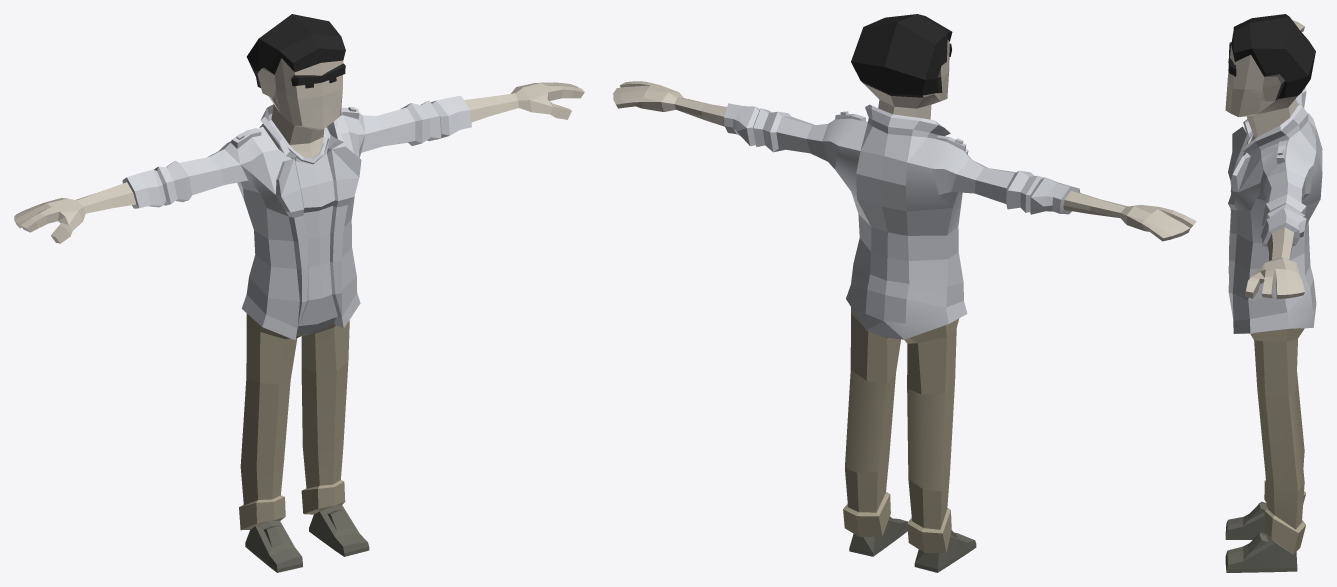
Rendered from adult_3.fbx.
3 renders of one model, left to right at view 1: azimuth 30°, elevation 25°; view 2: azimuth 150°, elevation 25°; view 3: azimuth 270°, elevation 25°, orthographic. The views are drawn at different scales.
Visible parts, largest first — view 1: polySurface83; view 2: polySurface83; view 3: polySurface83.
Boxes of the visible parts, x1,y1,x2,y2 form: polySurface83: (14, 14, 584, 572); polySurface83: (613, 14, 1196, 572); polySurface83: (1225, 14, 1322, 572).
Size of the model in its own units: 14.57 by 2.15 by 13.03.
